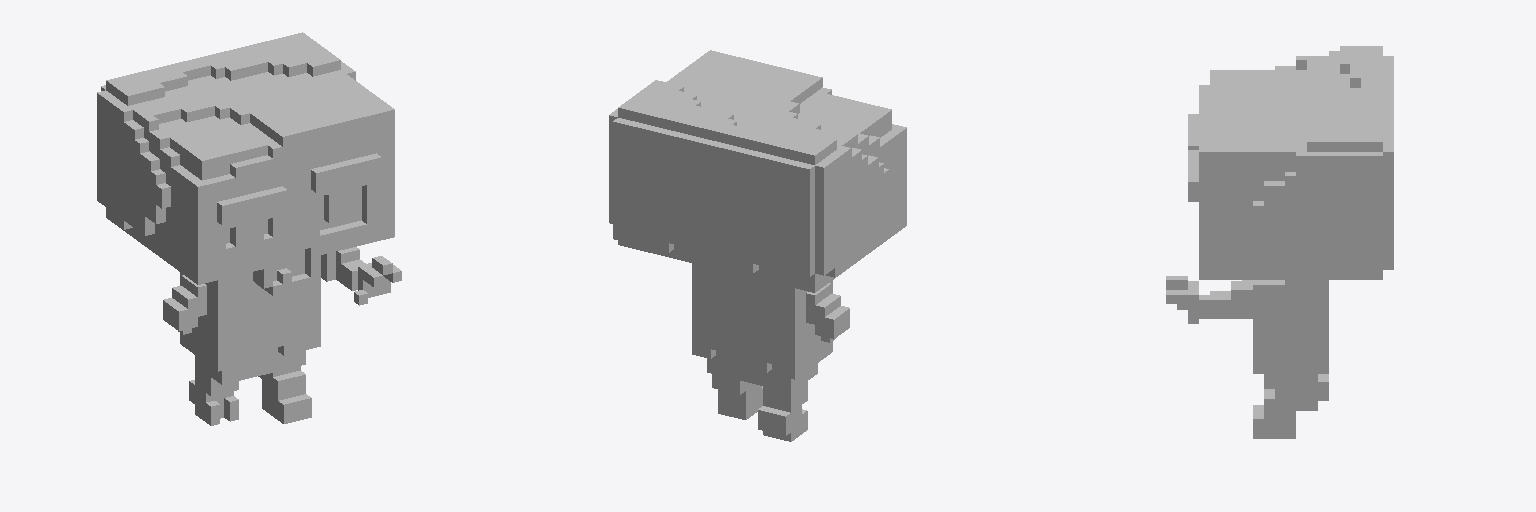
File: familiar_zombi.obj
3 views of the same model, side by side, from view 1: azimuth 30°, elevation 25°; view 2: azimuth 150°, elevation 25°; view 3: azimuth 270°, elevation 25° (orthographic).
Visible parts, largest first — view 1: Familiar_Zombi; view 2: Familiar_Zombi; view 3: Familiar_Zombi.
Boxes of the visible parts, <box> form: Familiar_Zombi: <box>97,32,401,425</box>; Familiar_Zombi: <box>609,50,906,441</box>; Familiar_Zombi: <box>1166,46,1393,438</box>.
Size of the model in its own units: 11.5 by 16.5 by 10.5.